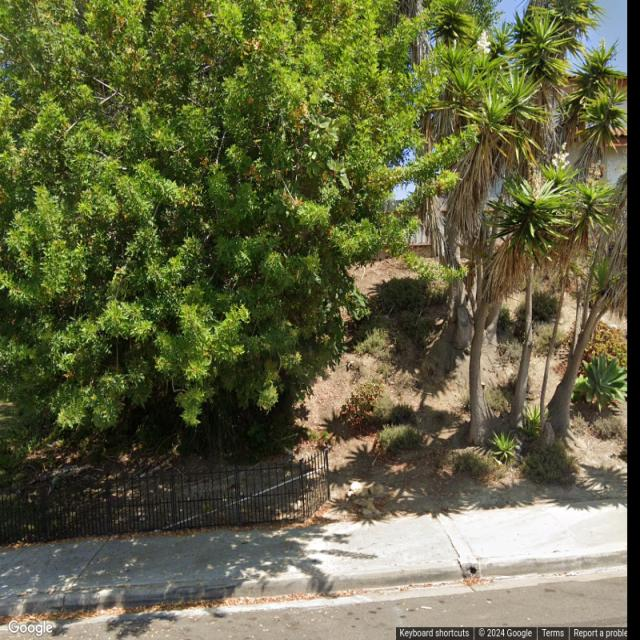House: (382, 128, 628, 262)
